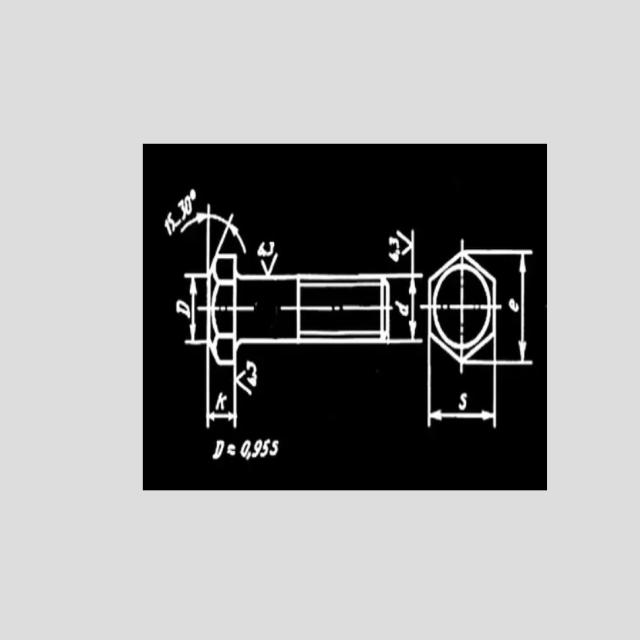marking_line: (425, 366, 498, 429), (497, 248, 533, 366), (182, 203, 254, 254), (390, 274, 423, 342), (205, 367, 237, 427), (185, 274, 207, 344)
numeric: (245, 360, 259, 388), (393, 298, 409, 318), (177, 300, 191, 319), (506, 297, 519, 315), (252, 438, 262, 459), (214, 440, 225, 459), (168, 213, 177, 233), (270, 440, 280, 456), (261, 438, 269, 456), (240, 440, 248, 458), (185, 196, 193, 214), (178, 200, 185, 220), (258, 241, 266, 258), (266, 241, 275, 256), (389, 251, 399, 264), (165, 220, 173, 236), (389, 236, 399, 246)
special_symbol: (237, 370, 253, 396), (259, 254, 278, 275), (397, 229, 411, 256), (226, 444, 236, 457), (190, 189, 197, 201), (246, 451, 252, 460), (395, 247, 400, 255)
